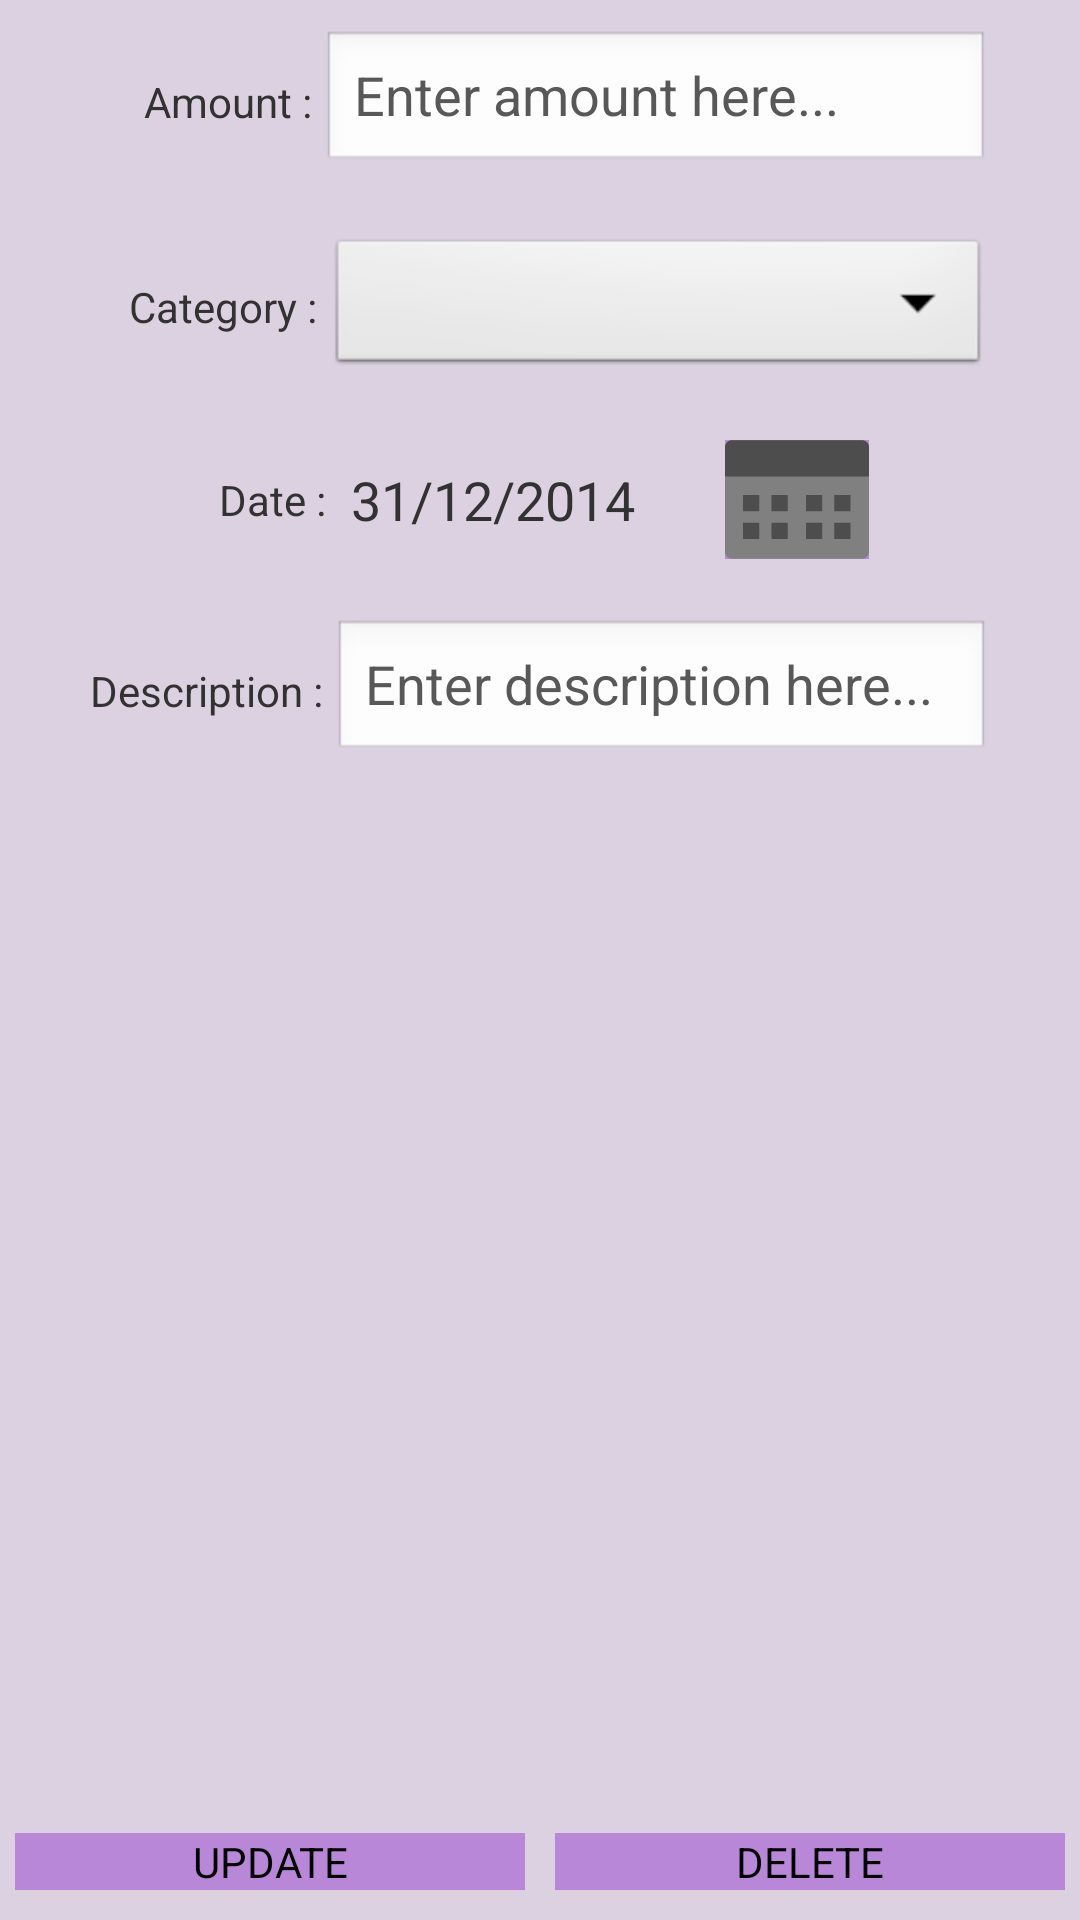

Icon bounding boxes for this 1080×1920 phone screenshot, format (x1, y1, x2, y2):
calendar: (725, 440, 869, 559)
